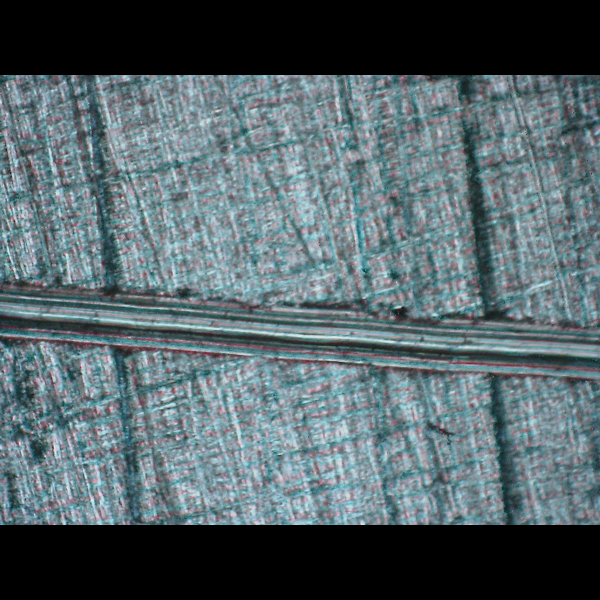d: (0, 266, 597, 386)
